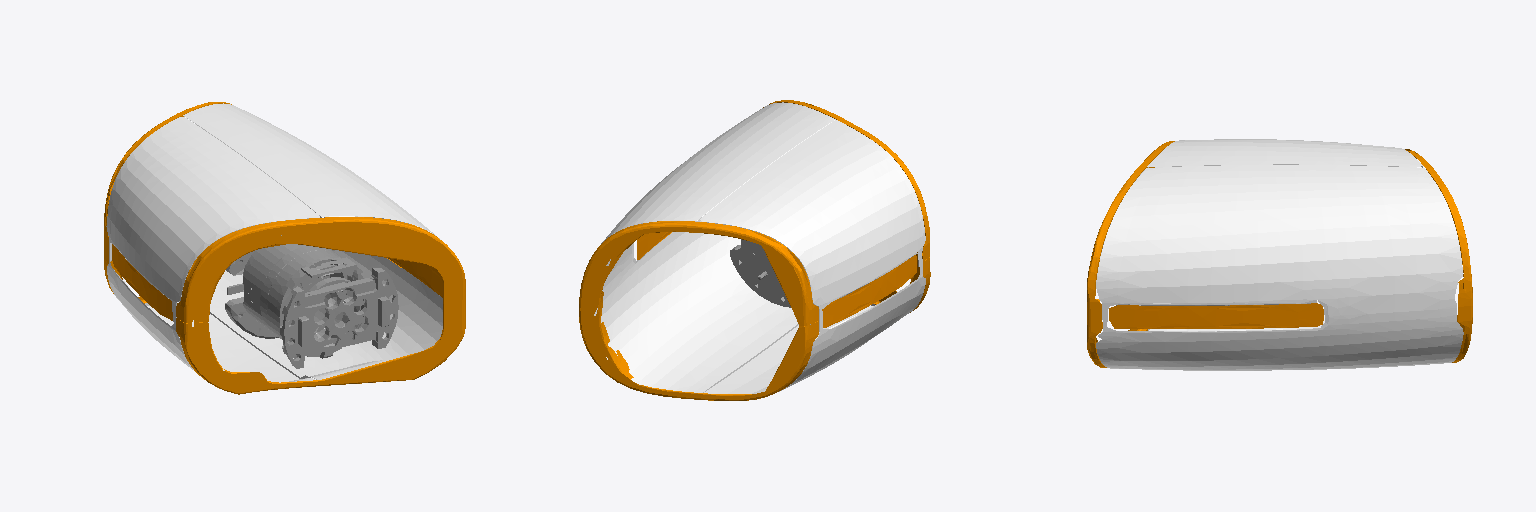
Rendered from sim_ecub_l_hip_3.obj.
The picture shows the model from 3 angles: view 1: azimuth 30°, elevation 25°; view 2: azimuth 150°, elevation 25°; view 3: azimuth 270°, elevation 25°; orthographic projection.
Size of the model in its own units: 187 by 138 by 266.